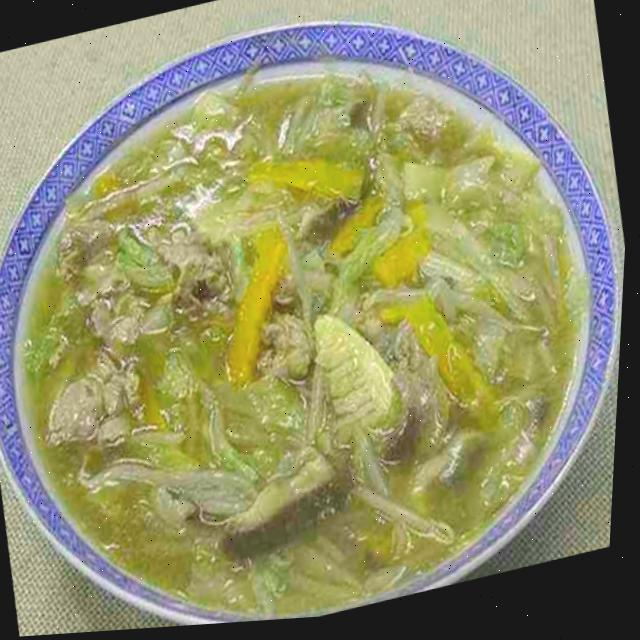面包点心: (118, 0, 640, 480)
